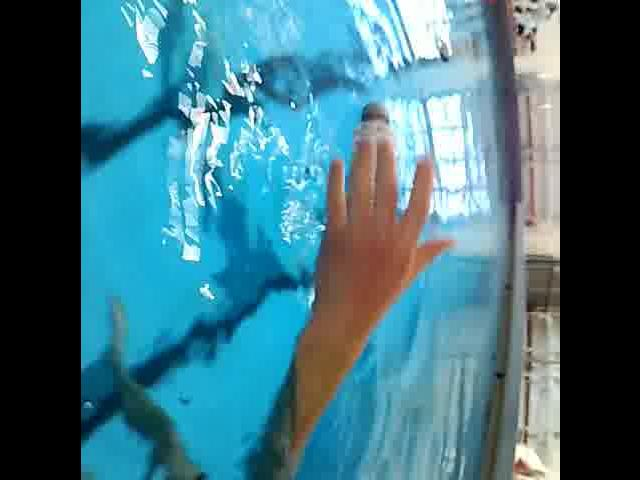Bottle: (350, 102, 397, 148)
CamMount: (434, 34, 452, 64)
